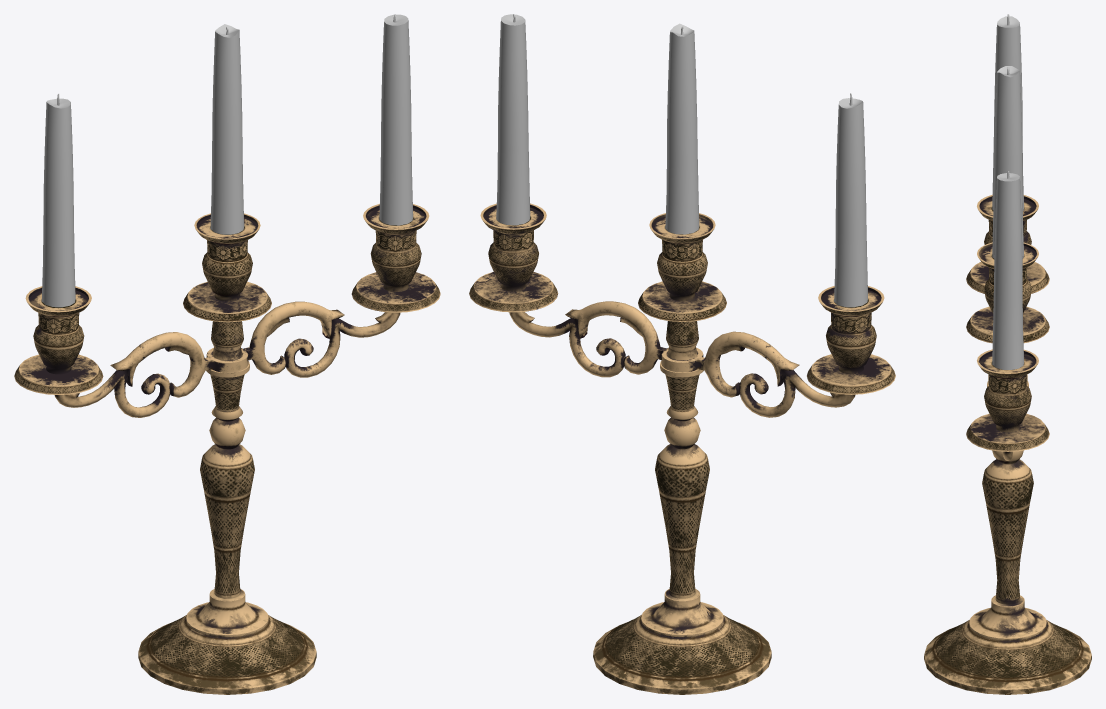
File: candle_14.fbx
3 renders of one model, left to right at view 1: azimuth 30°, elevation 25°; view 2: azimuth 150°, elevation 25°; view 3: azimuth 270°, elevation 25°, orthographic. The views are drawn at different scales.
Parts seen in each view (by area): view 1: candle_14; view 2: candle_14; view 3: candle_14.
Part boxes in pixels (bbox=[...]): candle_14: bbox=[14, 14, 440, 694]; candle_14: bbox=[469, 14, 895, 694]; candle_14: bbox=[924, 14, 1091, 694].
Size of the model in its own units: 26.11 by 37.94 by 9.74.
